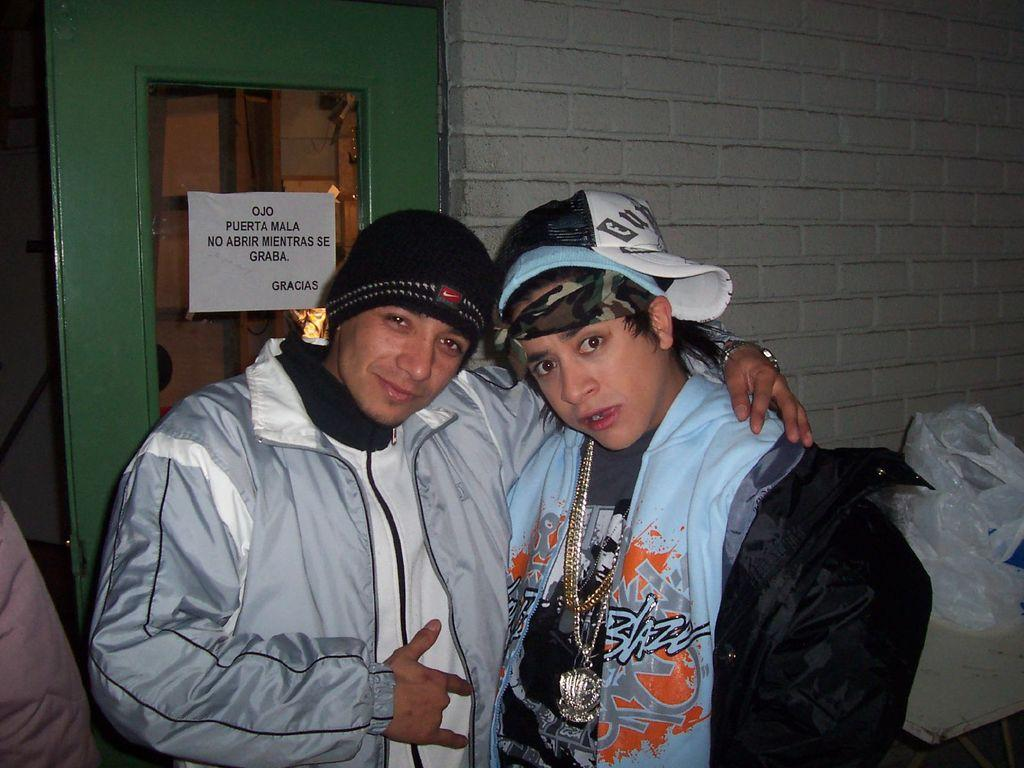Hat: (485, 186, 733, 324)
